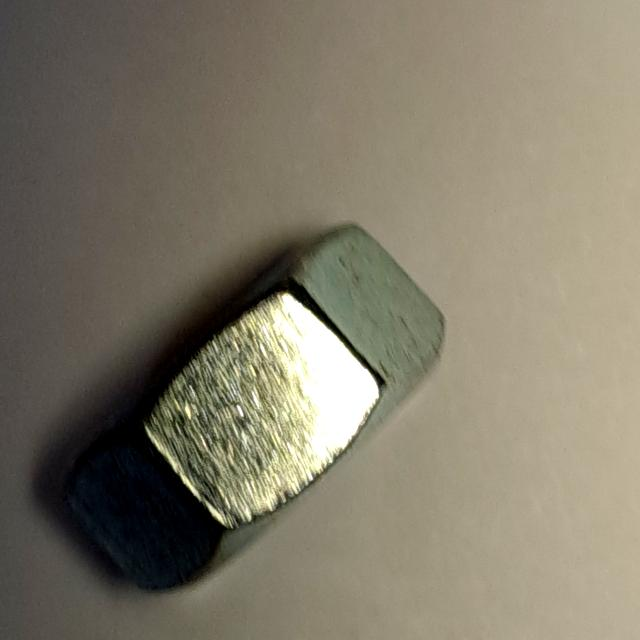Side_Excellent: (42, 209, 458, 617)
